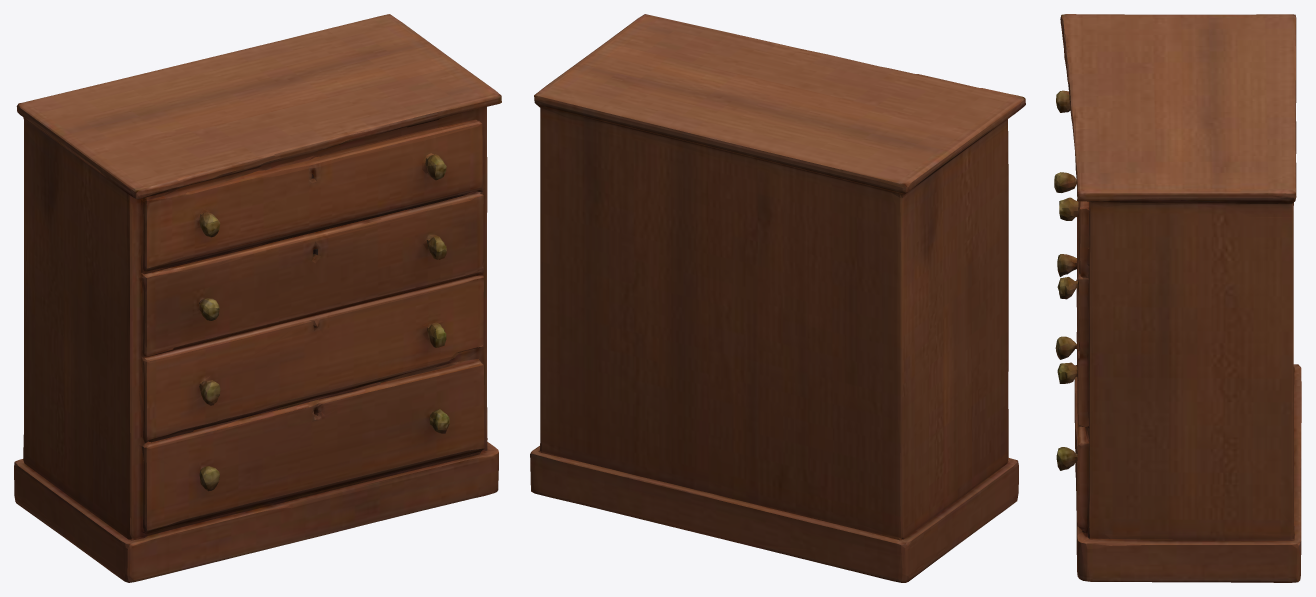
Rendered from dresser.glb.
The picture shows the model from 3 angles, left to right: view 1: azimuth 30°, elevation 25°; view 2: azimuth 150°, elevation 25°; view 3: azimuth 270°, elevation 25°; orthographic projection. The views are drawn at different scales.
Parts seen in each view (by area): view 1: geometry_0; view 2: geometry_0; view 3: geometry_0.
Part boxes in pixels (bbox=[...]): geometry_0: bbox=[14, 14, 501, 582]; geometry_0: bbox=[530, 14, 1025, 582]; geometry_0: bbox=[1054, 14, 1301, 582].
Bounding box in the file's own units: 0.4956 × 0.4998 × 0.2866.
1 material, 1 textured.
